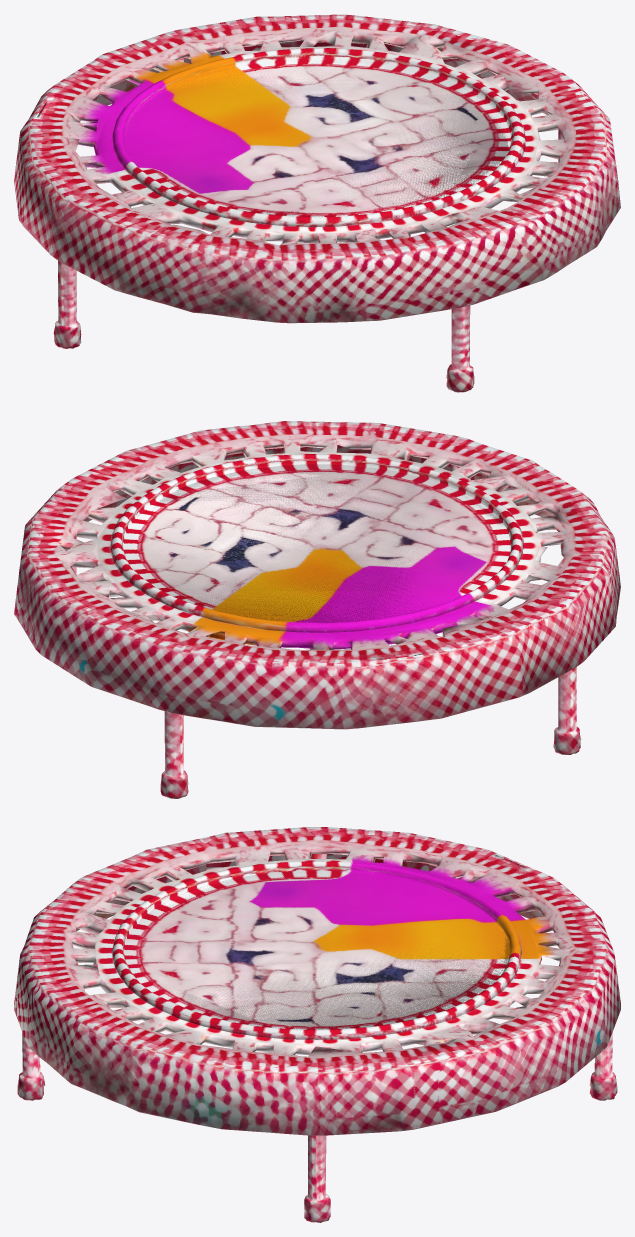
File: rescue_bounce_pad.glb
3 renders of one model, top to bottom at view 1: azimuth 30°, elevation 25°; view 2: azimuth 150°, elevation 25°; view 3: azimuth 270°, elevation 25°, orthographic.
Visible parts, largest first — view 1: Mesh_0; view 2: Mesh_0; view 3: Mesh_0.
Boxes of the visible parts, left/top/right/bottom form: Mesh_0: left=14, top=14, right=620, bottom=392; Mesh_0: left=14, top=421, right=620, bottom=798; Mesh_0: left=14, top=827, right=620, bottom=1222.
Size of the model in its own units: 0.7348 by 0.2 by 0.7348.
Materials: 1 (1 with a texture image).
